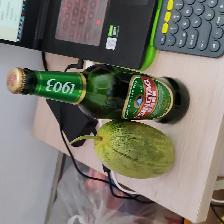gua: (80, 126, 172, 177)
